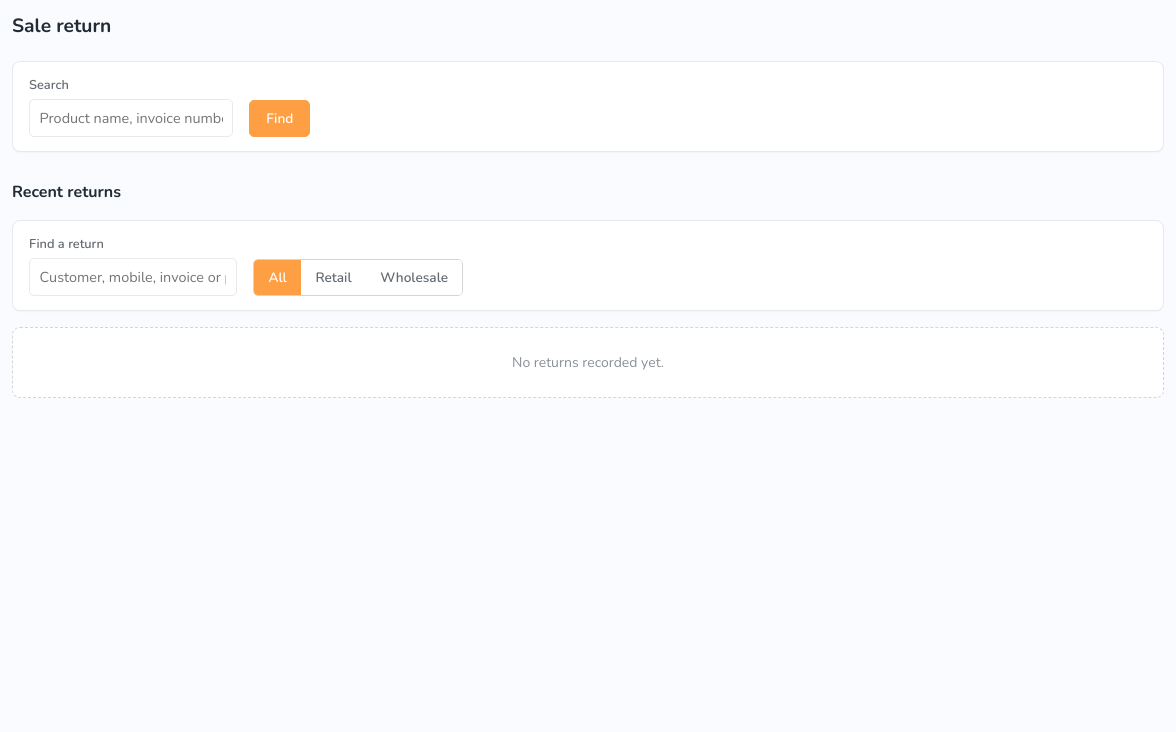
Scenario: customer returns › shows each result at what it is worth back, after the invoice discount
In the field labelled "Search": (131, 118) [29, 99, 233, 137], type "ch"
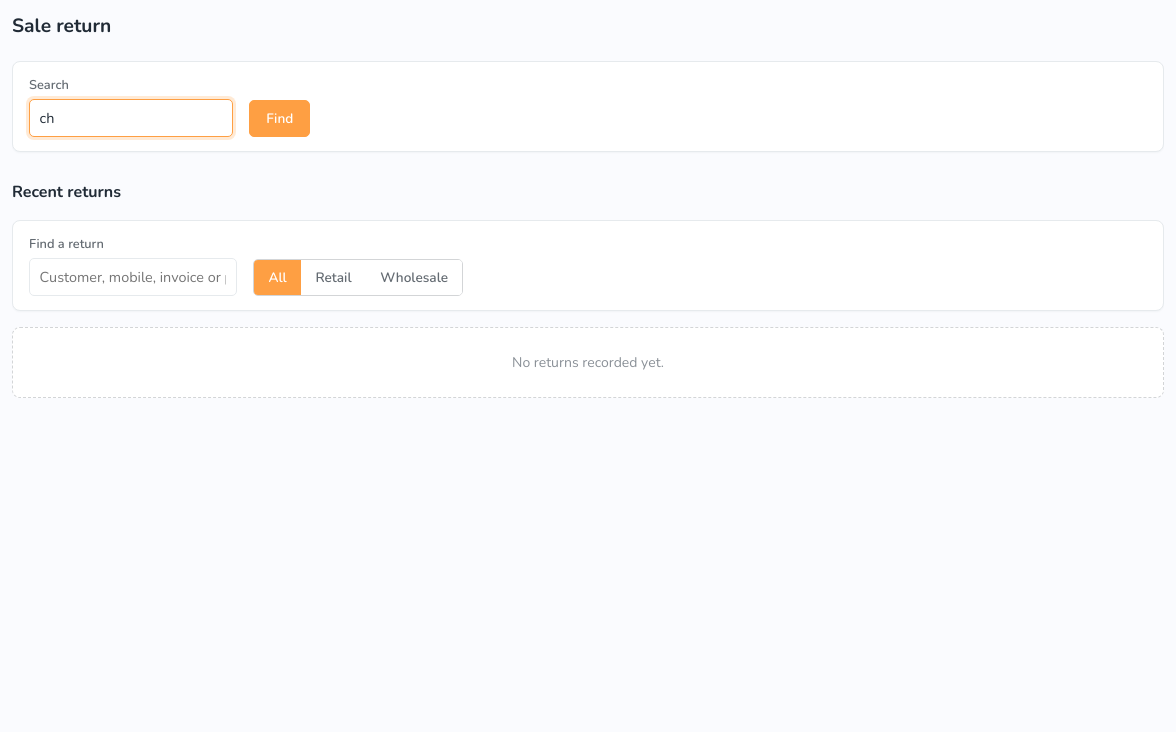
Click the button "Find": click(280, 118) [249, 100, 310, 137]
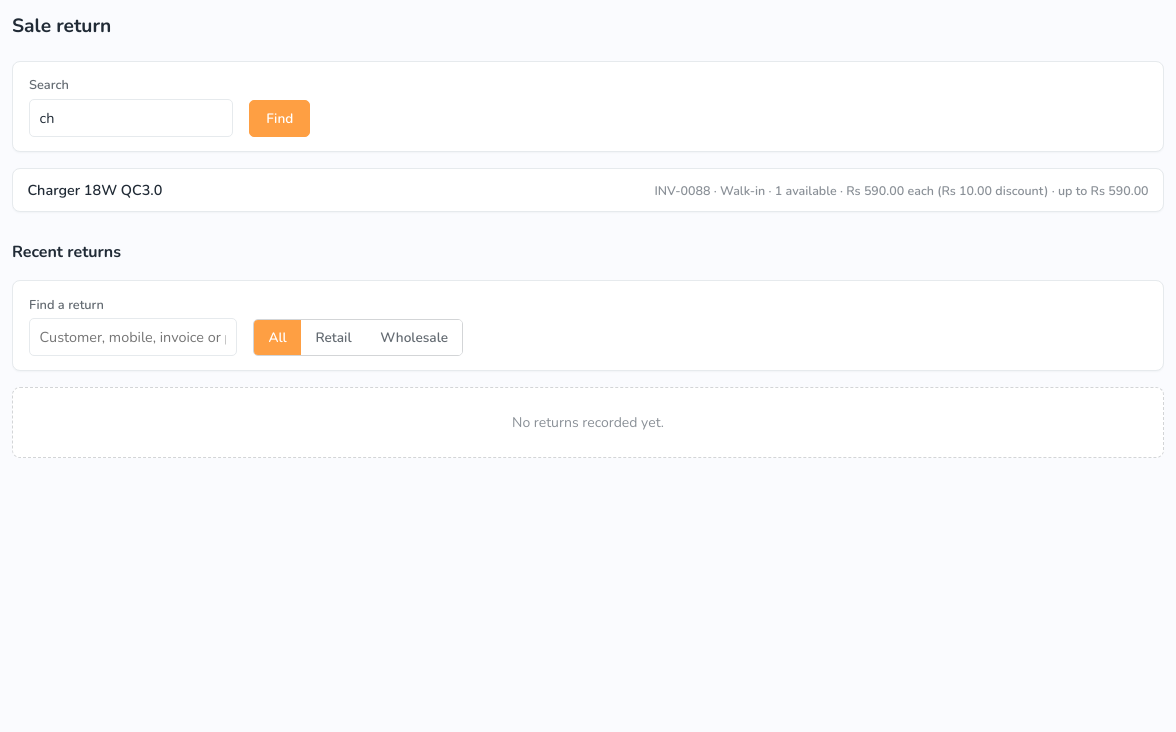
Expected: the button "Charger 18W" shows "Rs 590.00 each"
Expected: the button "Charger 18W" shows "Rs 10.00 discount"
Click the button "Charger 18W": click(95, 190) [13, 169, 1163, 211]
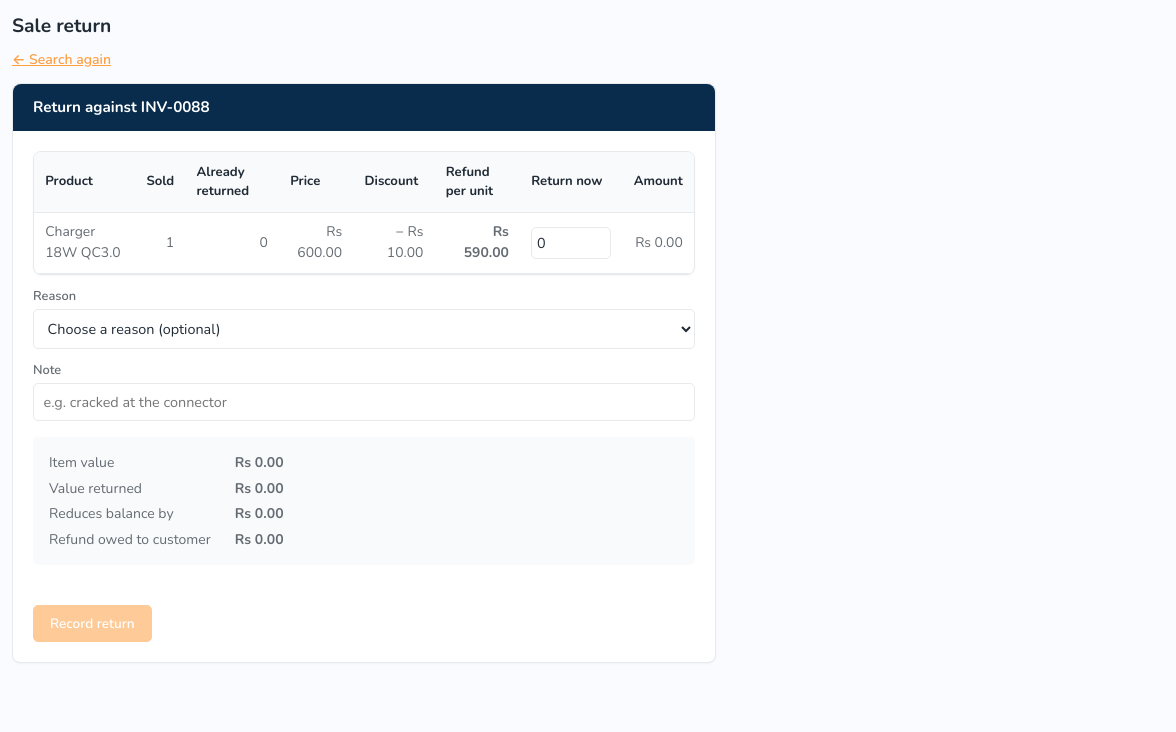
Expected: the cell with test id "line-amount-9" is shown, [622, 213, 694, 274]
